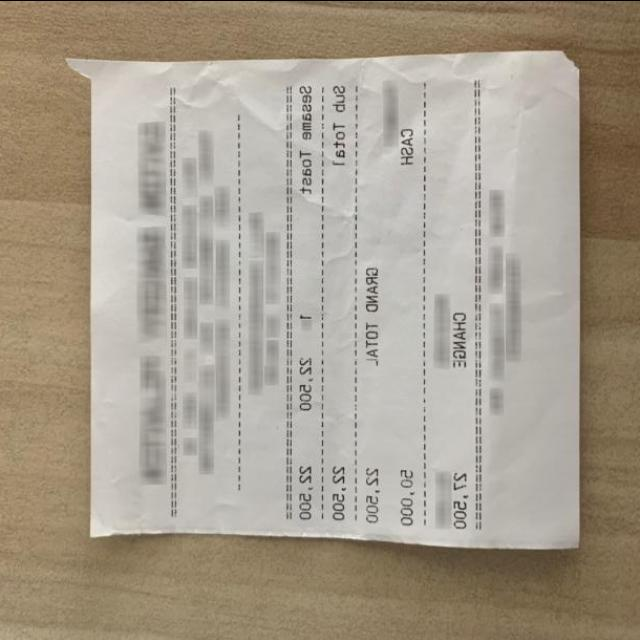kertas: (69, 50, 586, 555)
